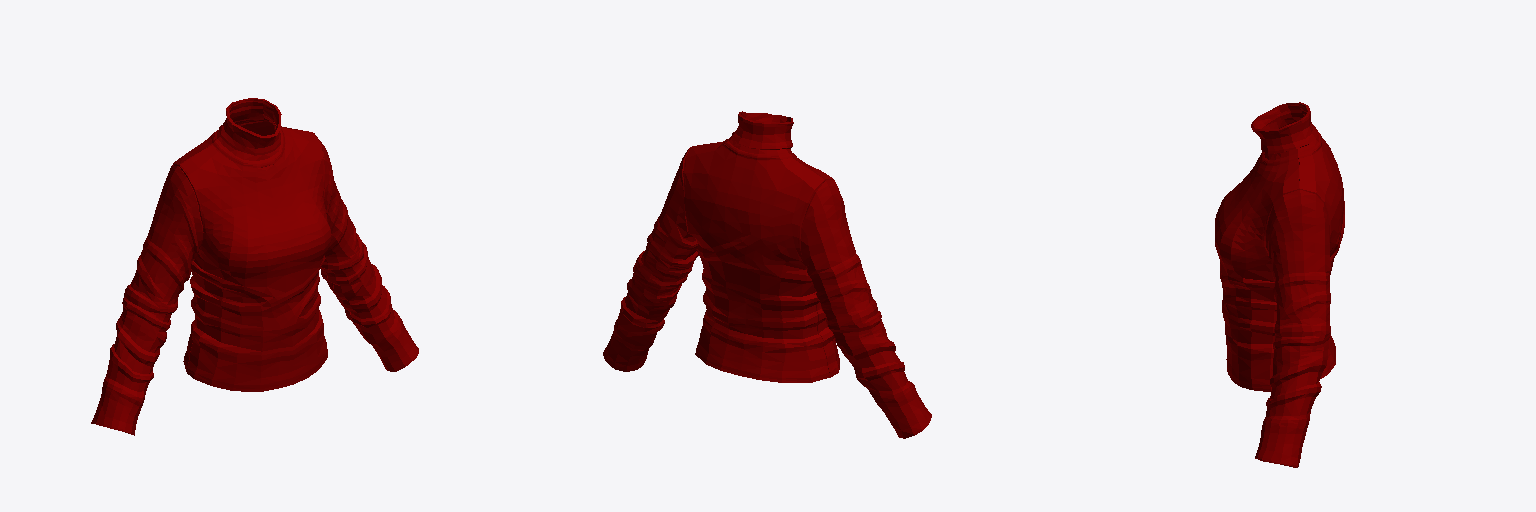
Rendered from red-sweater.obj.
3 views of the same model, side by side, from view 1: azimuth 30°, elevation 25°; view 2: azimuth 150°, elevation 25°; view 3: azimuth 270°, elevation 25° (orthographic).
Bounding box in the file's own units: 95 × 82.16 × 33.45.